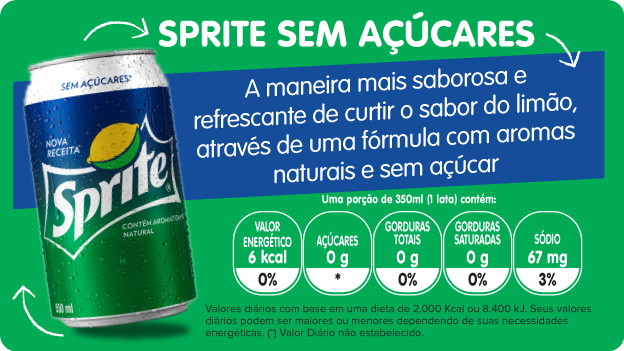sprite: (51, 138, 166, 241)
